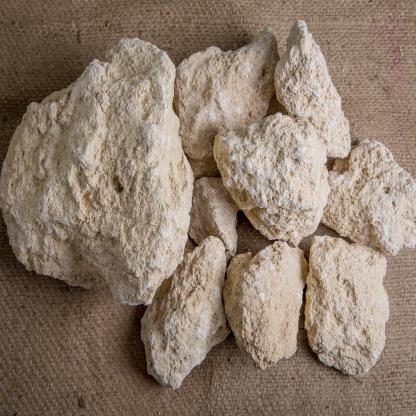Sedimentary_Limestone: (1, 32, 192, 305), (215, 110, 329, 247), (174, 25, 279, 173), (139, 239, 231, 396), (296, 234, 392, 382), (222, 238, 312, 369), (320, 133, 415, 249), (278, 15, 352, 160)
